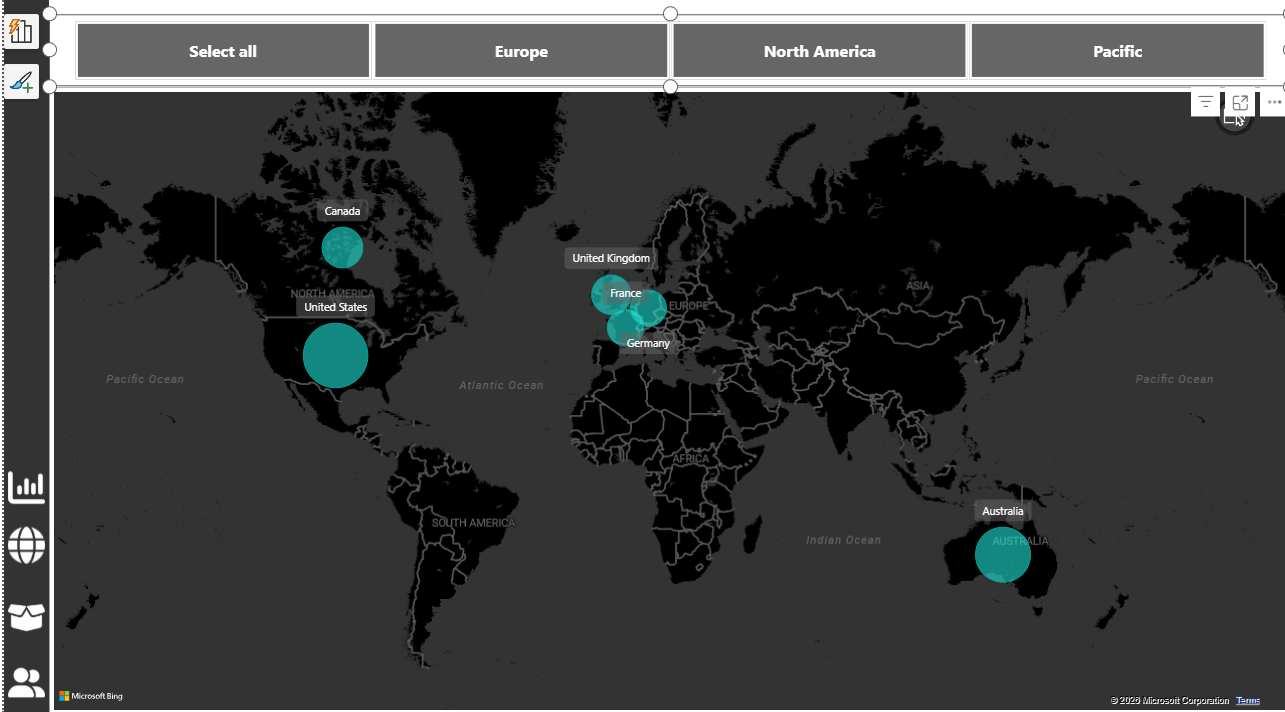

The page's visual inventory and layout, read from the dashboard file:
{"tool":"powerbi","page":{"name":"Map","canvas":[1280,720],"ordinal":1},"visuals":[{"type":"shape","box":[0,0,45,720.3],"z":0},{"type":"map","fields":{"Category":["Territory Lookup.Country"],"Size":["Measure Table.Total Orders"]},"box":[44.7,93.8,1235,626.2],"z":1000},{"type":"actionButton","box":[0,460.3,44.8,64.7],"z":1000,"group":"g1"},{"type":"slicer","fields":{"Values":["Territory Lookup.Continent"]},"box":[44.7,21.6,1235,72.1],"z":2000},{"type":"group","id":"g1","title":"Navigation Buttons","box":[0,460.3,44.8,260],"z":3000},{"type":"actionButton","box":[0,589.6,44.8,64.7],"z":5000,"group":"g1"},{"type":"actionButton","box":[0,516.9,44.8,64.7],"z":6000,"group":"g1"},{"type":"actionButton","box":[0,654.9,44.8,64.7],"z":7000,"group":"g1"}]}

Visuals, with their boxes in screenshot pixels (x1, y1, x2, y2):
shape: Rect(0, 0, 46, 711)
map - Territory Lookup.Country x Measure Table.Total Orders: Rect(45, 88, 1284, 711)
actionButton: Rect(0, 459, 45, 525)
slicer - Territory Lookup.Continent: Rect(45, 15, 1284, 88)
"Navigation Buttons" group: Rect(0, 459, 45, 711)
actionButton: Rect(0, 590, 45, 656)
actionButton: Rect(0, 516, 45, 582)
actionButton: Rect(0, 656, 45, 711)
